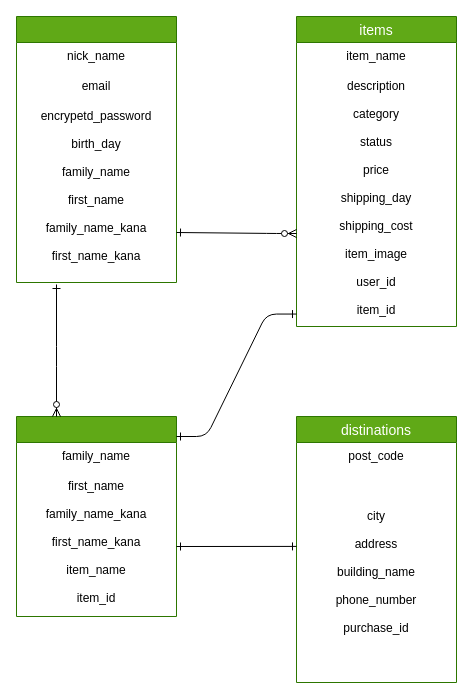
This 473x699 diagram has some shape labels left out. The shapes that lost their labels are listed below. From the top down, each one's box as (x1, y1, x2, y2) in pixels, then its label:
(16, 16, 176, 282): users
(16, 416, 176, 616): purchases
